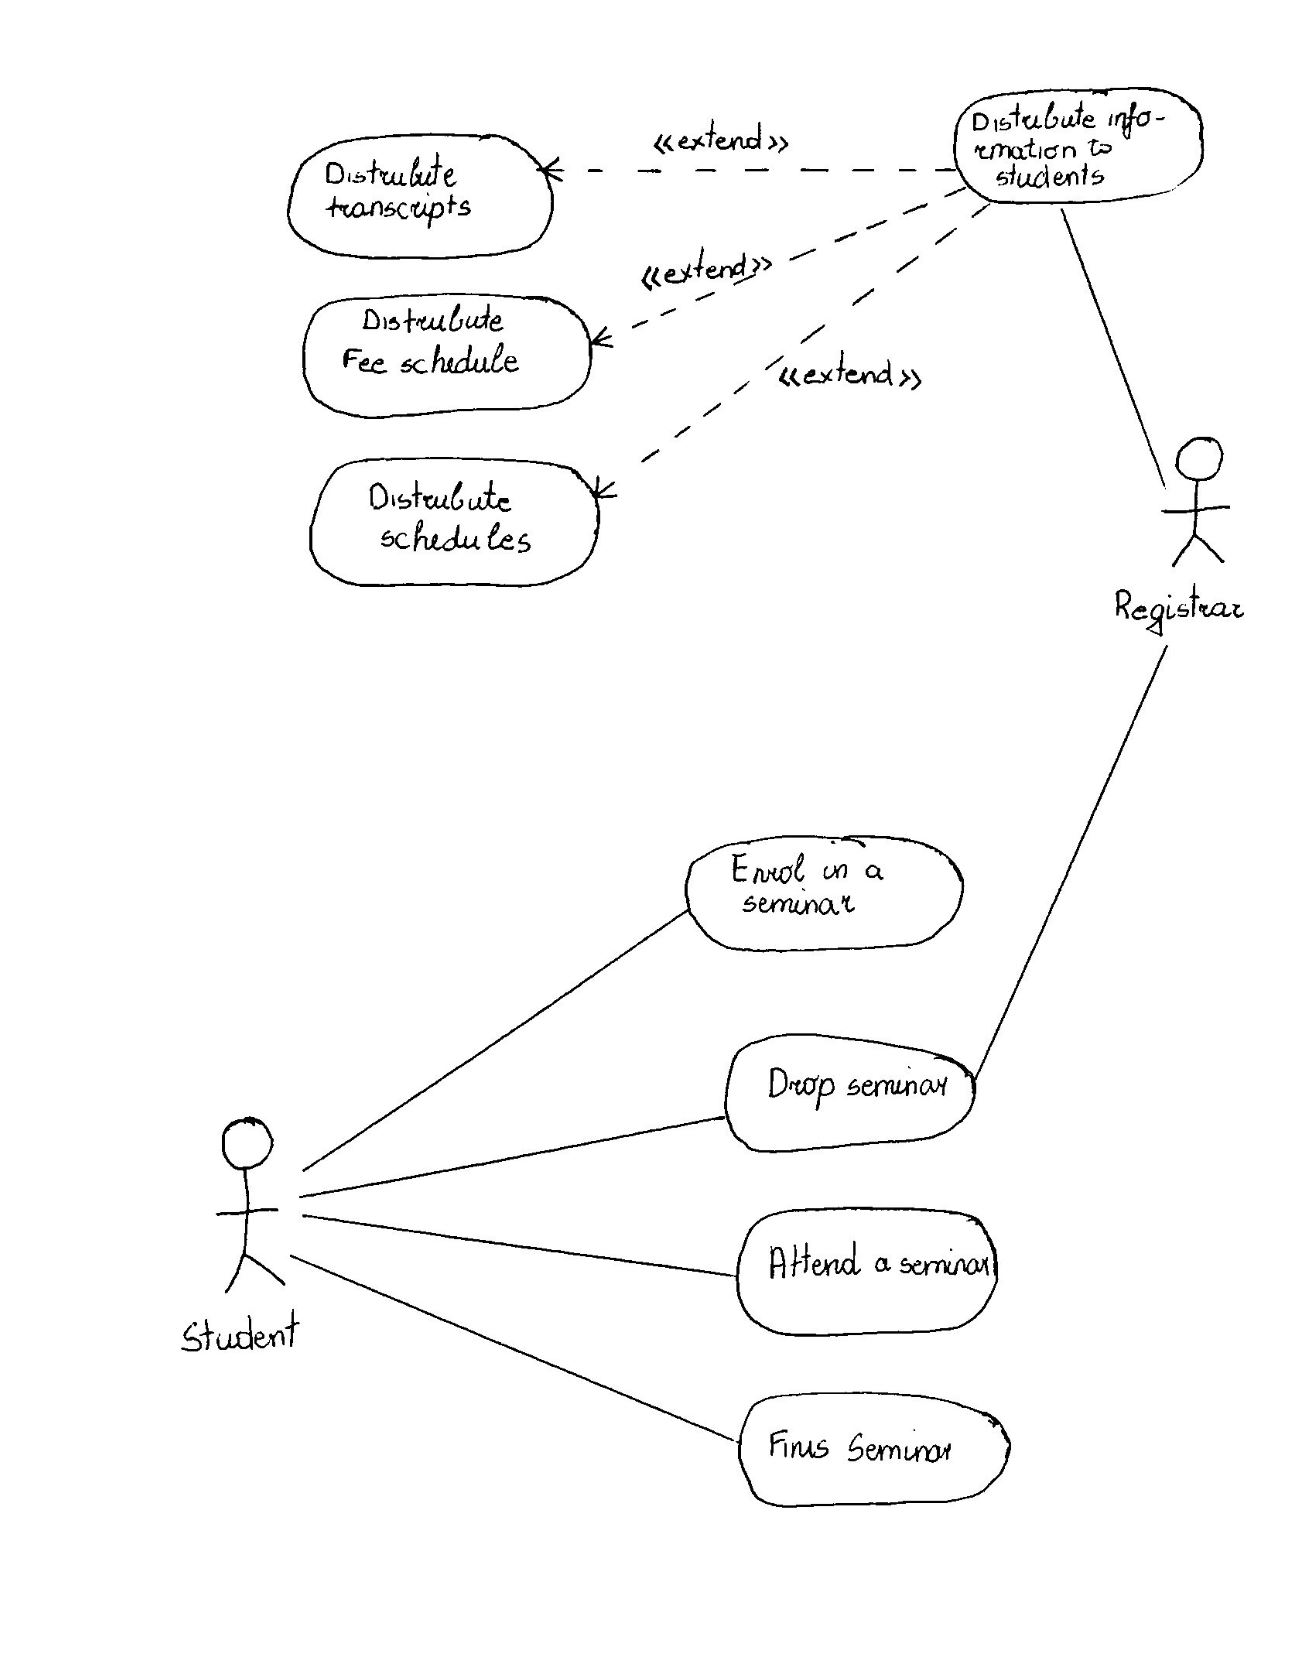actor: (223, 1114, 290, 1304), (1165, 429, 1236, 570)
association: (594, 202, 986, 499), (301, 904, 683, 1174), (972, 634, 1182, 1074), (286, 1250, 735, 1442), (587, 184, 963, 348), (302, 1111, 722, 1201), (300, 1211, 740, 1286), (1060, 211, 1163, 487), (546, 153, 961, 188)
text: (966, 103, 1167, 189), (338, 304, 525, 387), (367, 472, 539, 560), (762, 1411, 976, 1479), (736, 844, 898, 927), (319, 154, 496, 229), (762, 1052, 955, 1120), (764, 1239, 991, 1294), (1106, 580, 1260, 644), (165, 1307, 312, 1365), (774, 350, 933, 400), (641, 115, 801, 161), (623, 250, 775, 292)
use_case: (305, 456, 601, 589), (301, 293, 594, 418), (286, 130, 556, 265), (685, 833, 970, 958), (737, 1204, 999, 1336), (739, 1390, 1014, 1515), (951, 84, 1206, 209), (721, 1031, 979, 1154)
